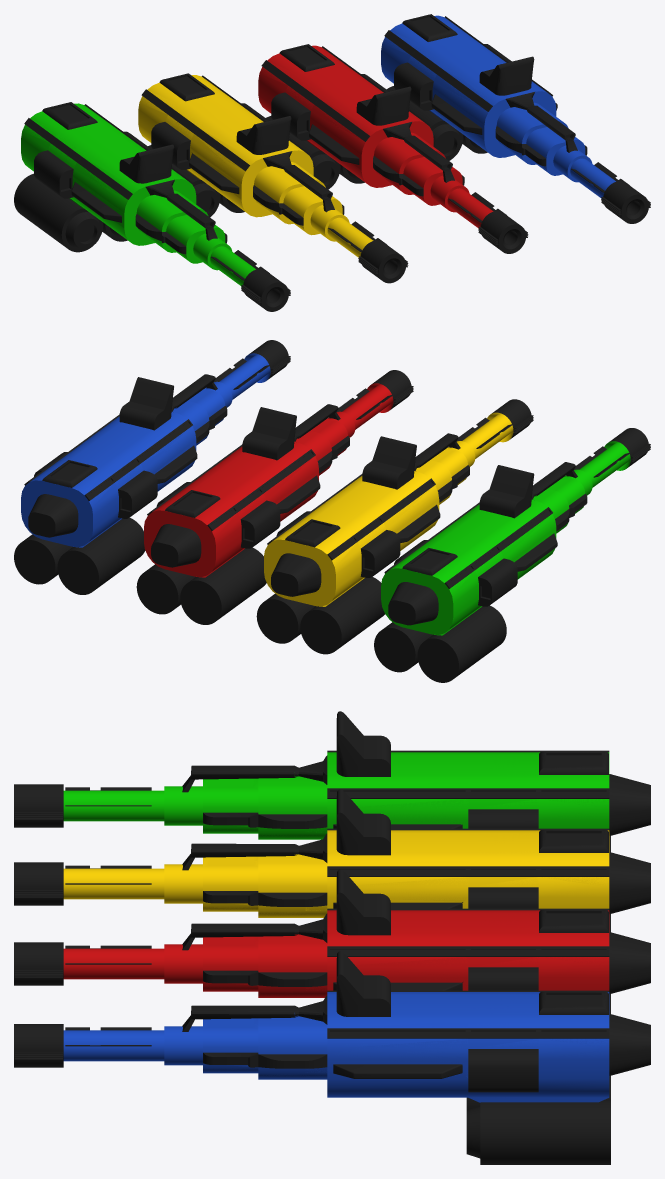
File: FlameThrowerLevel3.fbx
3 views of the same model, one above another, from view 1: azimuth 30°, elevation 25°; view 2: azimuth 150°, elevation 25°; view 3: azimuth 270°, elevation 25° (orthographic). The views are drawn at different scales.
Visible parts, largest first — view 1: FlameThrowerLevel3Green, FlameThrowerLevel3Blue, FlameThrowerLevel3Red, FlameThrowerLevel3Yellow; view 2: FlameThrowerLevel3Green, FlameThrowerLevel3Blue, FlameThrowerLevel3Red, FlameThrowerLevel3Yellow; view 3: FlameThrowerLevel3Blue, FlameThrowerLevel3Red, FlameThrowerLevel3Yellow, FlameThrowerLevel3Green.
Boxes of the visible parts, x1,y1,x2,y2 form: FlameThrowerLevel3Green: (14,102,290,311); FlameThrowerLevel3Blue: (381,14,650,223); FlameThrowerLevel3Red: (258,44,528,253); FlameThrowerLevel3Yellow: (138,73,408,283); FlameThrowerLevel3Green: (374,428,650,682); FlameThrowerLevel3Blue: (14,340,290,594); FlameThrowerLevel3Red: (136,370,413,624); FlameThrowerLevel3Yellow: (256,399,533,654); FlameThrowerLevel3Blue: (14,951,650,1164); FlameThrowerLevel3Red: (14,869,650,1013); FlameThrowerLevel3Yellow: (14,789,650,932); FlameThrowerLevel3Green: (14,711,650,852).
Bounding box in the file's own units: 332 × 93.68 × 293.
